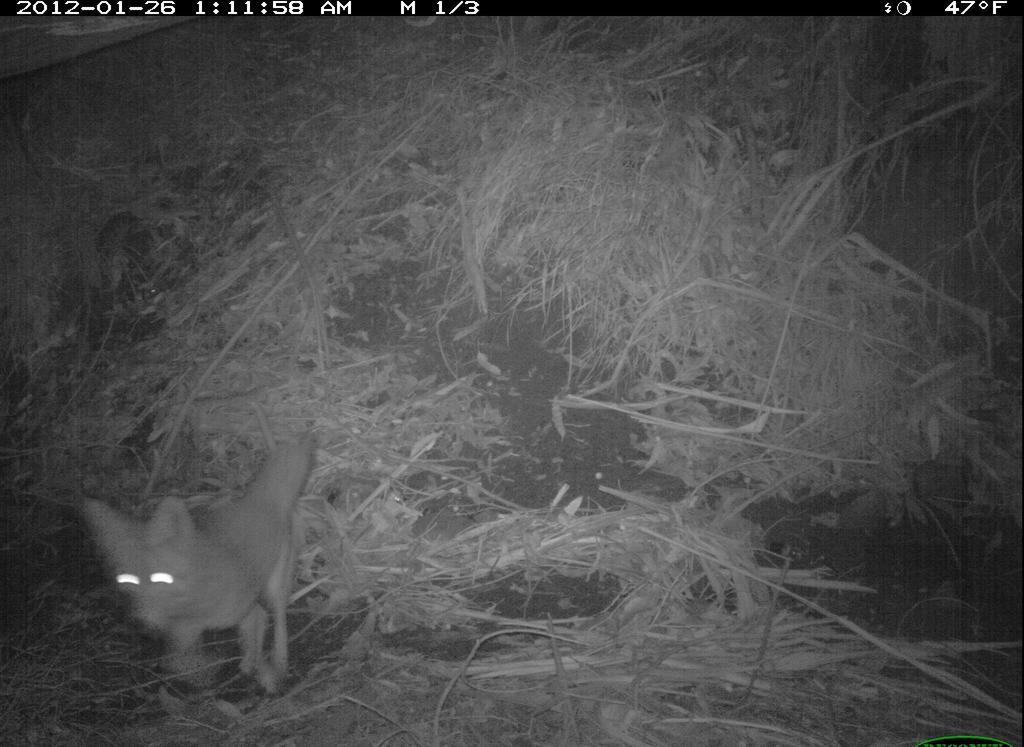coyote: (80, 445, 319, 693)
